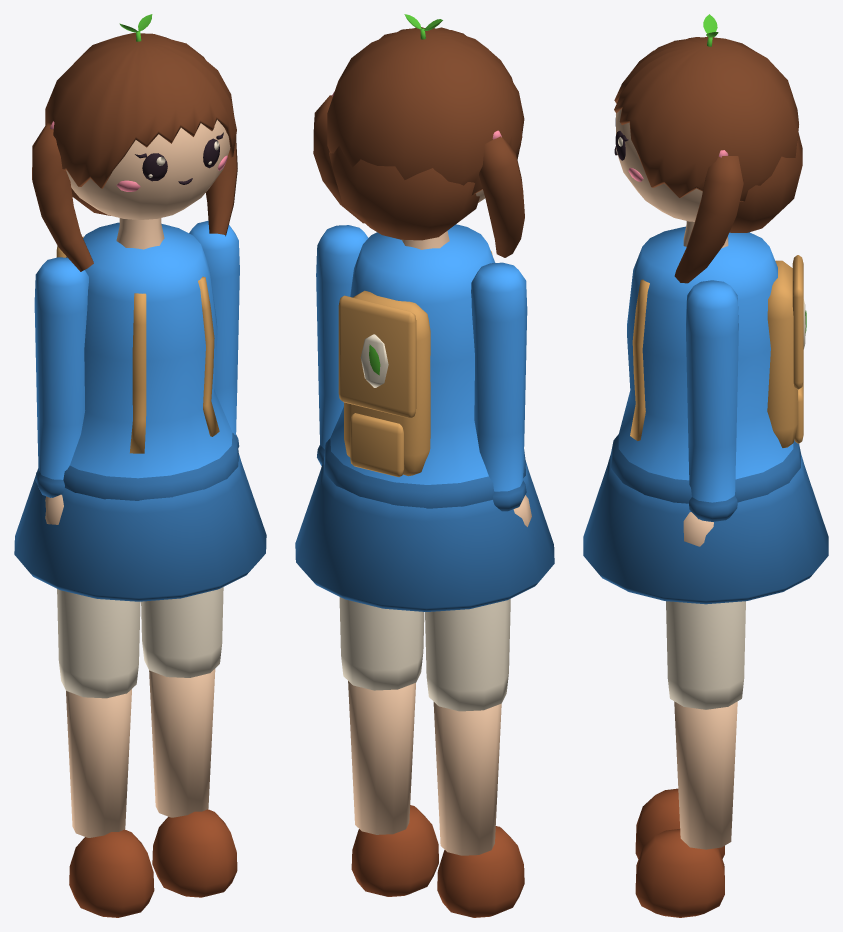
Rendered from hero-girl-grown.glb.
The picture shows the model from 3 angles, left to right: view 1: azimuth 30°, elevation 25°; view 2: azimuth 150°, elevation 25°; view 3: azimuth 270°, elevation 25°; orthographic projection. The views are drawn at different scales.
Visible parts, largest first — view 1: body, head, leg-left, leg-right, arm-left, arm-right; view 2: body, head, leg-left, leg-right, arm-left, arm-right; view 3: body, head, leg-right, arm-right, leg-left.
Boxes of the visible parts, x1,y1,x2,y2 form: body: (14,222,266,601); head: (32,33,237,271); leg-left: (57,589,154,917); leg-right: (141,587,237,897); arm-left: (34,257,88,524); arm-right: (189,220,239,447); body: (295,224,554,611); head: (313,27,524,257); leg-left: (425,599,524,917); leg-right: (339,597,438,896); arm-left: (471,262,531,526); arm-right: (316,225,368,465); body: (583,226,828,604); head: (614,36,802,283); leg-right: (635,601,745,917); arm-right: (683,280,738,546); leg-left: (635,788,724,858).
Size of the model in its own units: 0.8037 by 2.99 by 0.7688.
